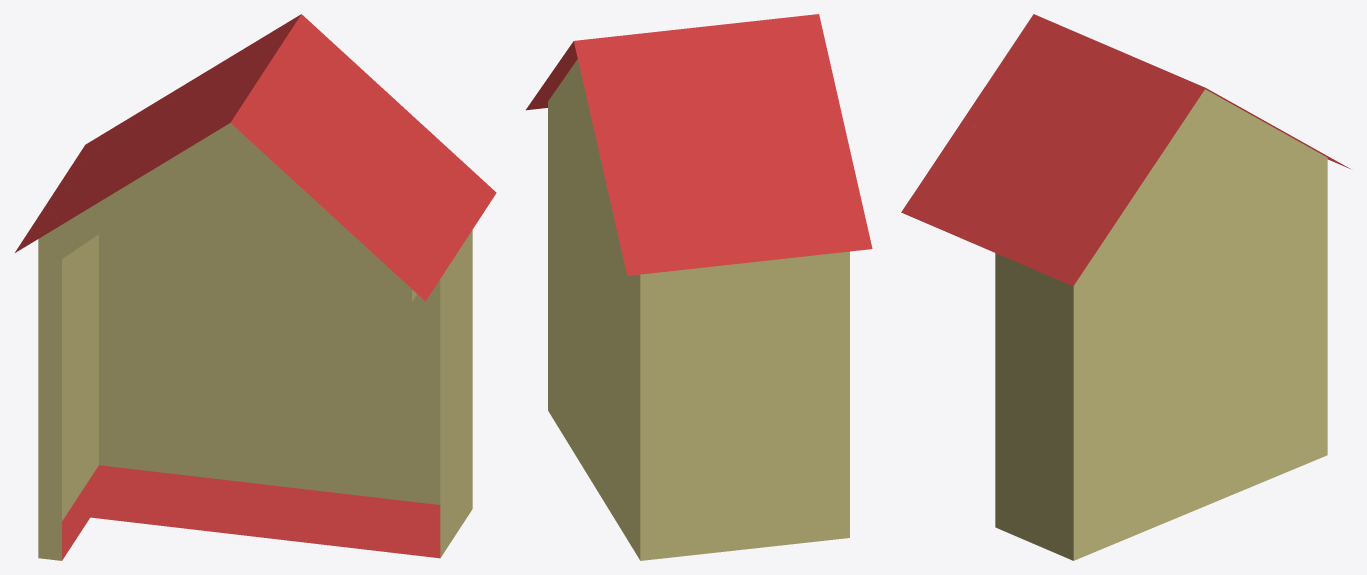
The picture shows the model from 3 angles, left to right: view 1: azimuth 30°, elevation 25°; view 2: azimuth 150°, elevation 25°; view 3: azimuth 270°, elevation 25°; orthographic projection. The views are drawn at different scales.
Size of the model in its own units: 12.59 by 12.63 by 13.23.
